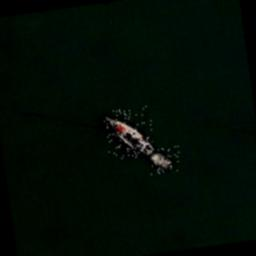boat: (102, 106, 156, 162), (148, 149, 180, 173)
